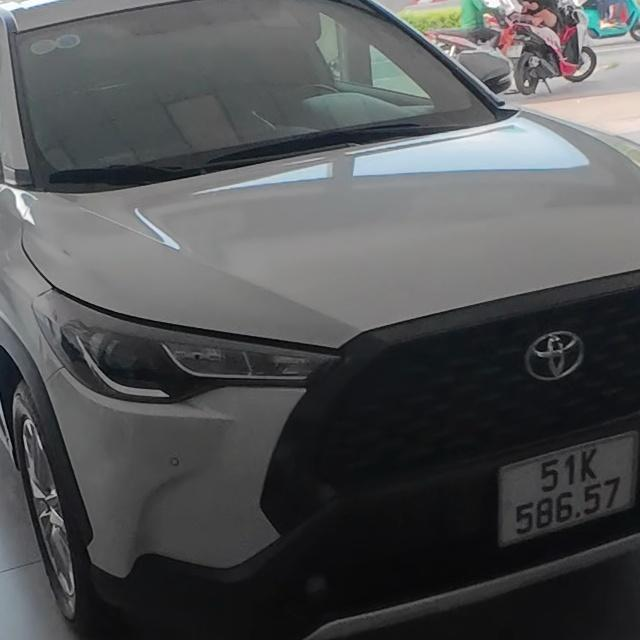car: (0, 0, 640, 639)
plate: (491, 431, 640, 545)
